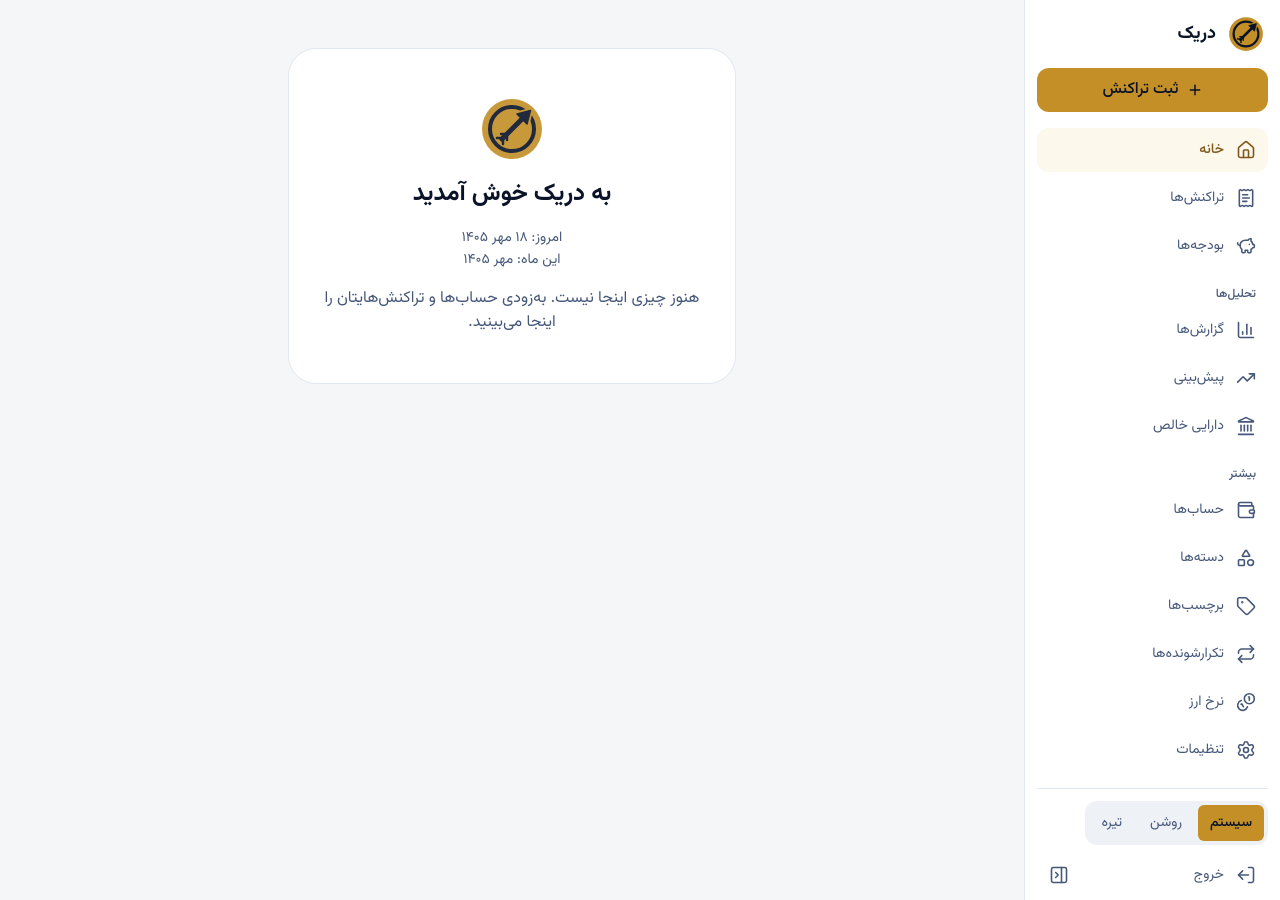
Test: Net Worth › is reachable from the header
Click the link "دارایی خالص": (1204, 426) [1153,415,1256,437]
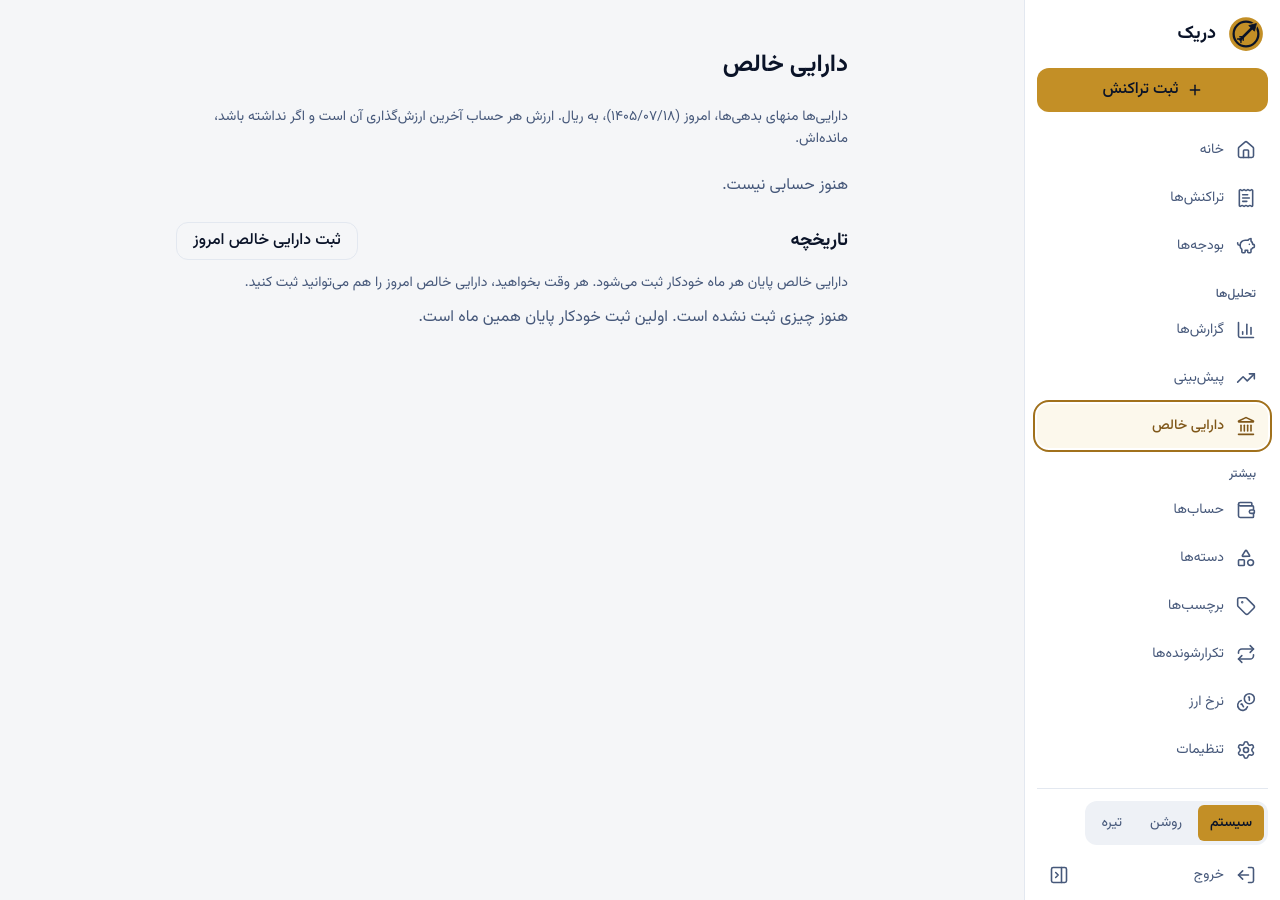
Result: the heading "دارایی خالص" is shown at [723,46,848,84]
Result: the text "هنوز حسابی نیست." is shown at [722,173,848,198]
